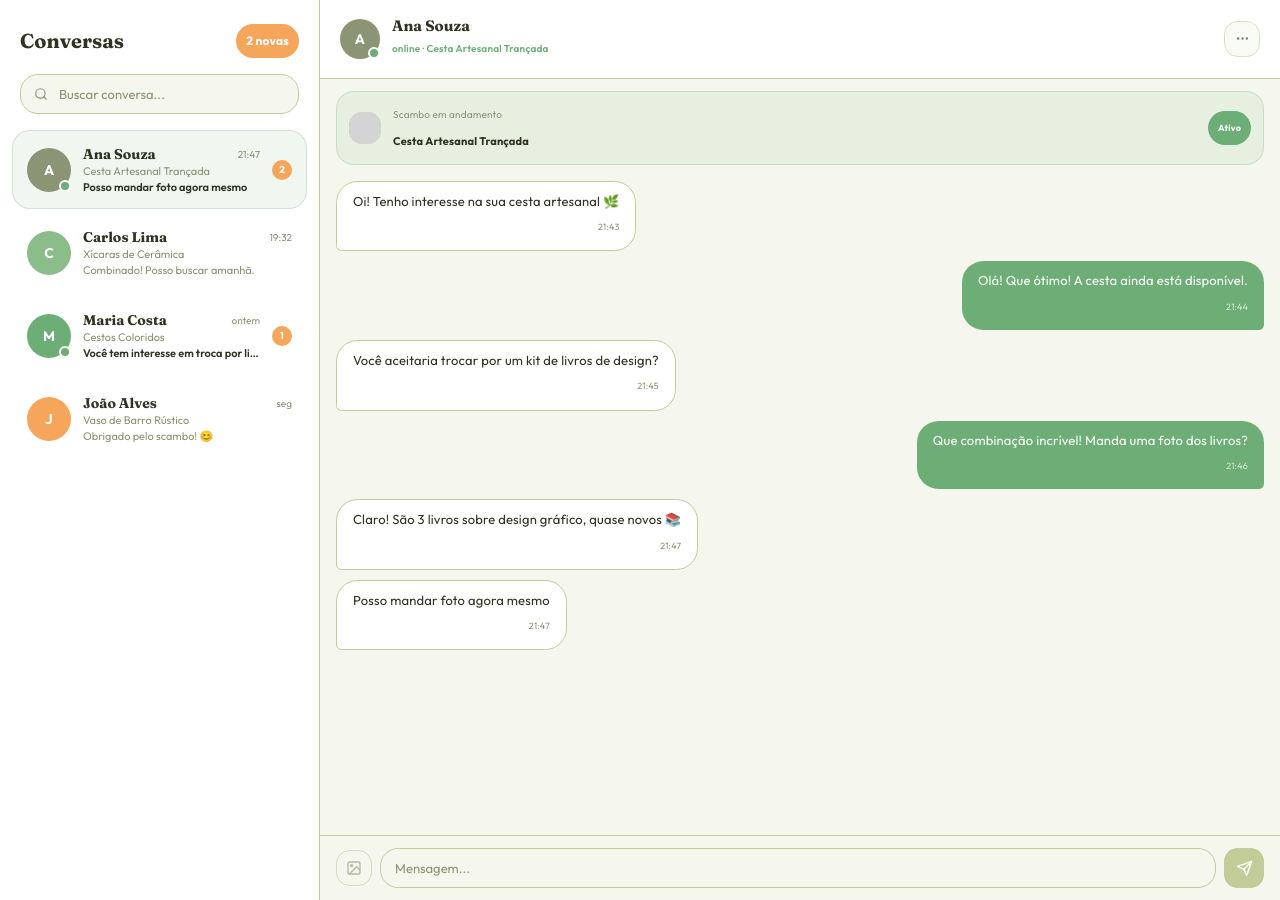
Test: Tela de chat › Deve abrir outra conversa e zerar as não lidas
The width and height of the screenshot is (1280, 900).
Expected: the text named "1 não lidas" is shown, x1=272 y1=326 x2=292 y2=346
Click the text "Maria Costa" at (125, 320), box x1=83 y1=311 x2=167 y2=329
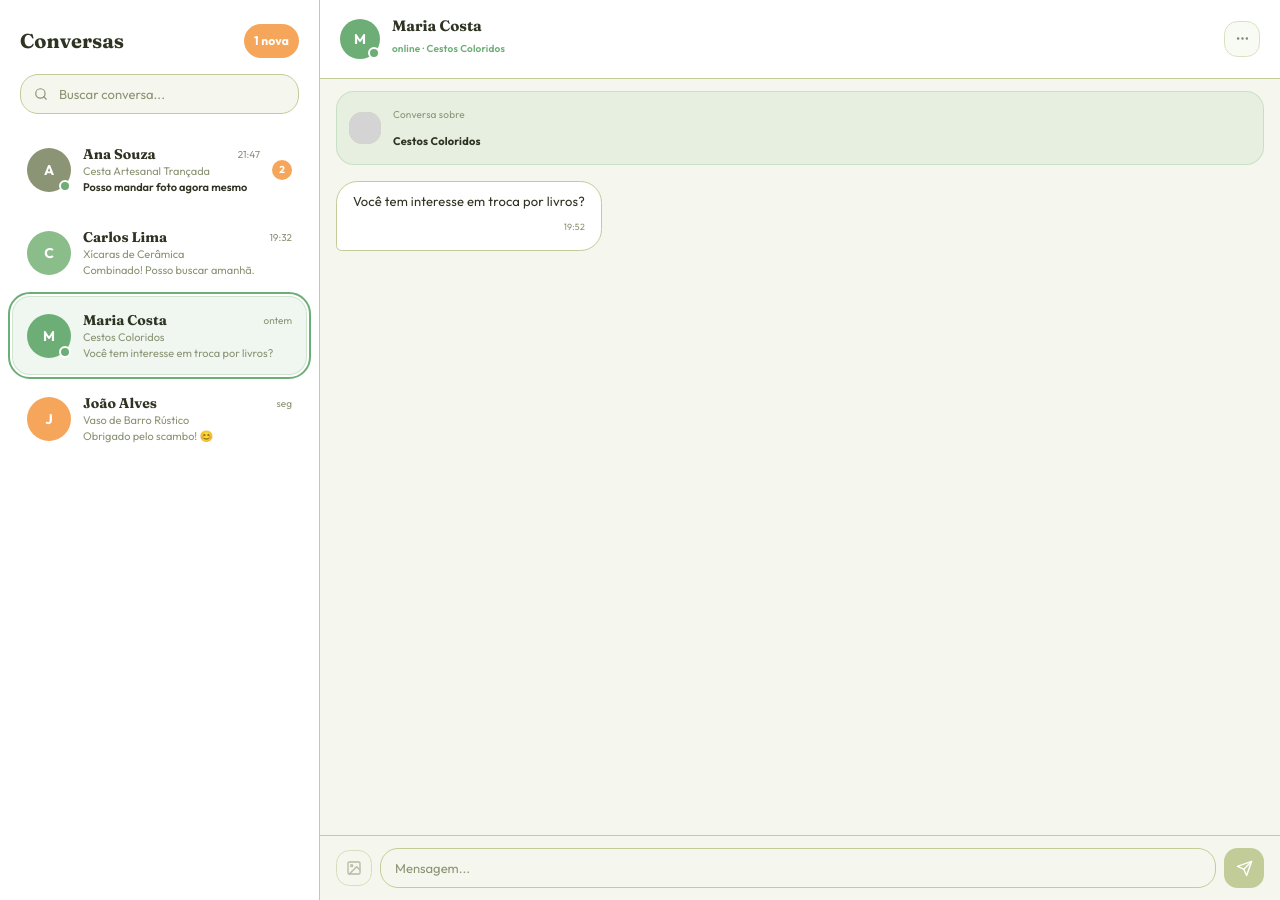
Now the text "Você tem interesse em troca por livros?" below "Conversa sobre" is shown, box x1=353 y1=193 x2=585 y2=209
